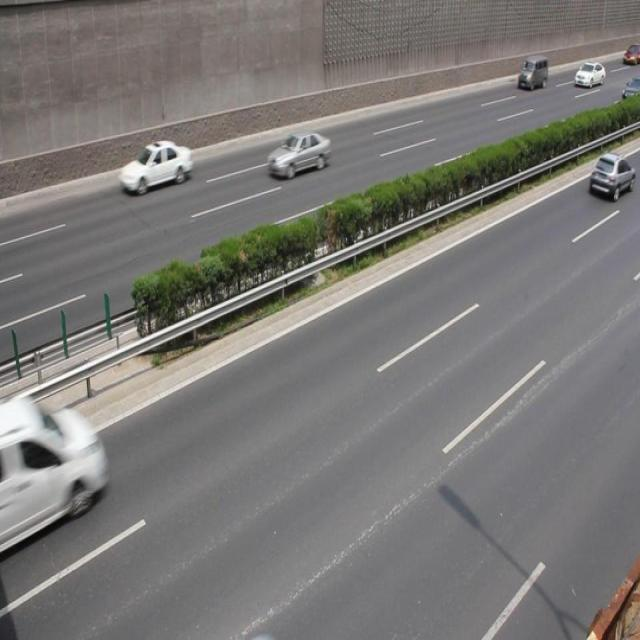car: (118, 139, 192, 196), (266, 130, 331, 182), (586, 154, 629, 200), (573, 60, 604, 88)
truck: (516, 53, 547, 89)
